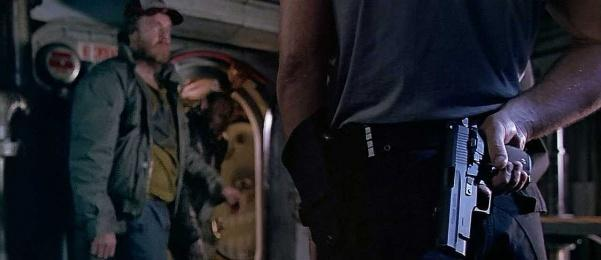Gun: (437, 119, 533, 258)
